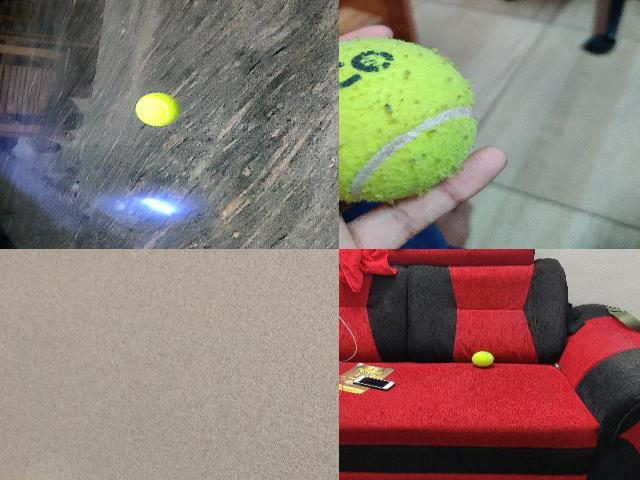tennis-ball: (339, 36, 478, 202), (134, 92, 180, 127), (471, 350, 493, 366)
